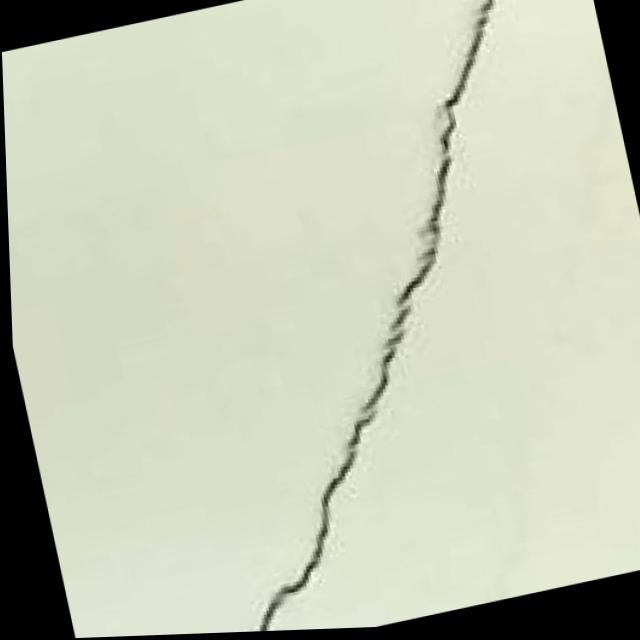Crack: (90, 0, 635, 637)
